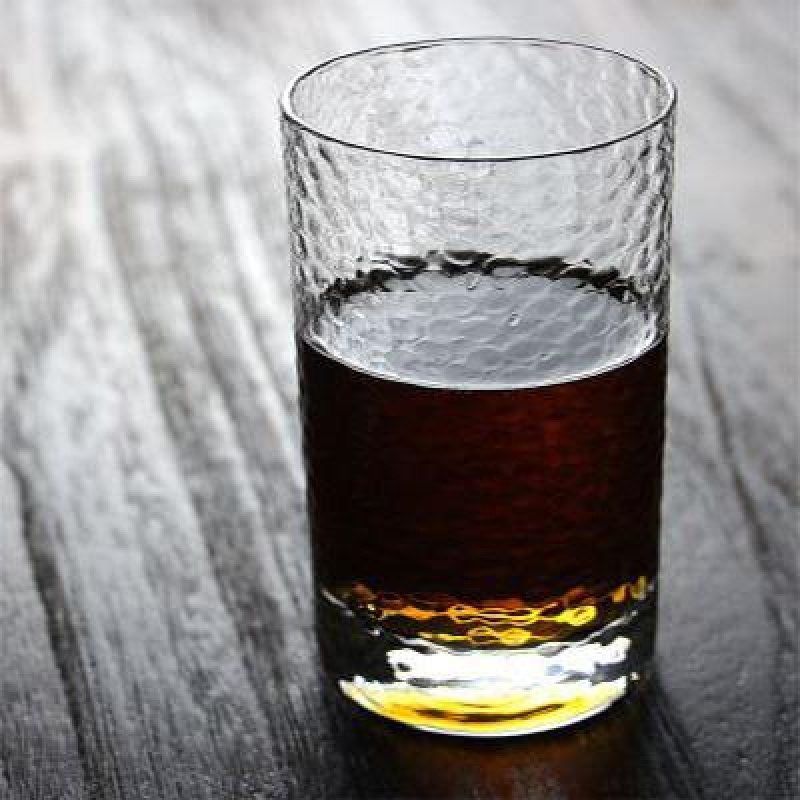whiskey: (278, 38, 666, 725)
